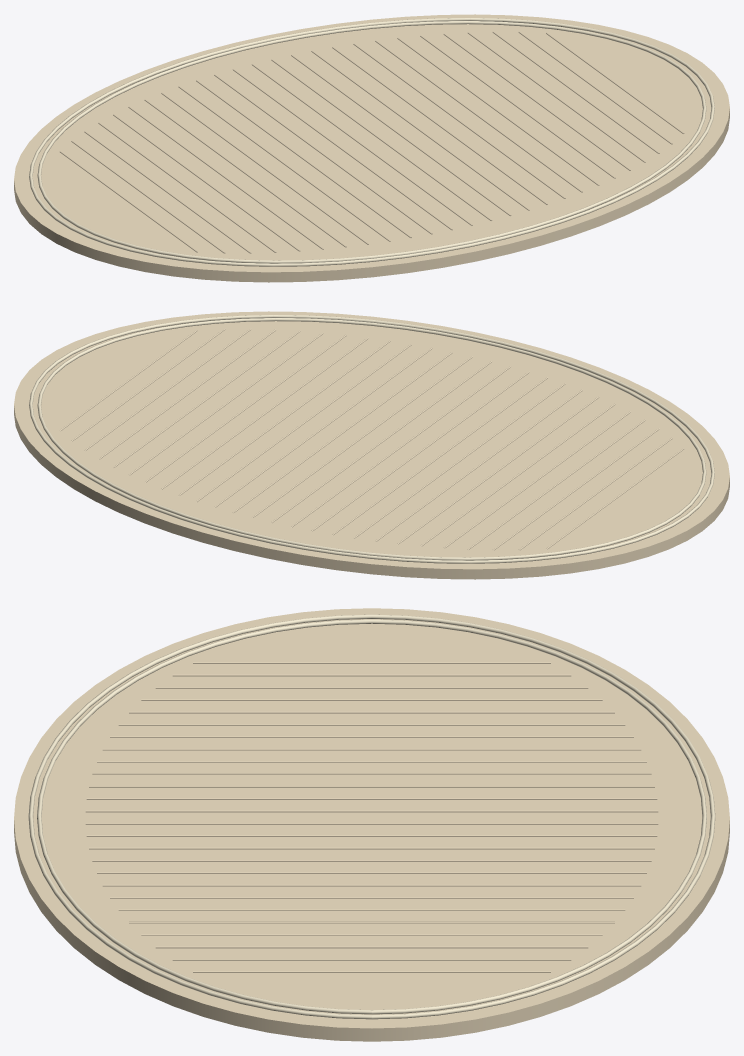
Rendered from natural-rug.glb.
3 renders of one model, top to bottom at view 1: azimuth 30°, elevation 25°; view 2: azimuth 150°, elevation 25°; view 3: azimuth 270°, elevation 25°, orthographic. The views are drawn at different scales.
Visible parts, largest first — view 1: Rug.001; view 2: Rug.001; view 3: Rug.001.
Part boxes in pixels (box(x1,y1,x2,y2)): Rug.001: box(14, 14, 729, 282); Rug.001: box(14, 311, 729, 579); Rug.001: box(14, 608, 729, 1041).
Size of the model in its own units: 3.4 by 0.063 by 2.45.
